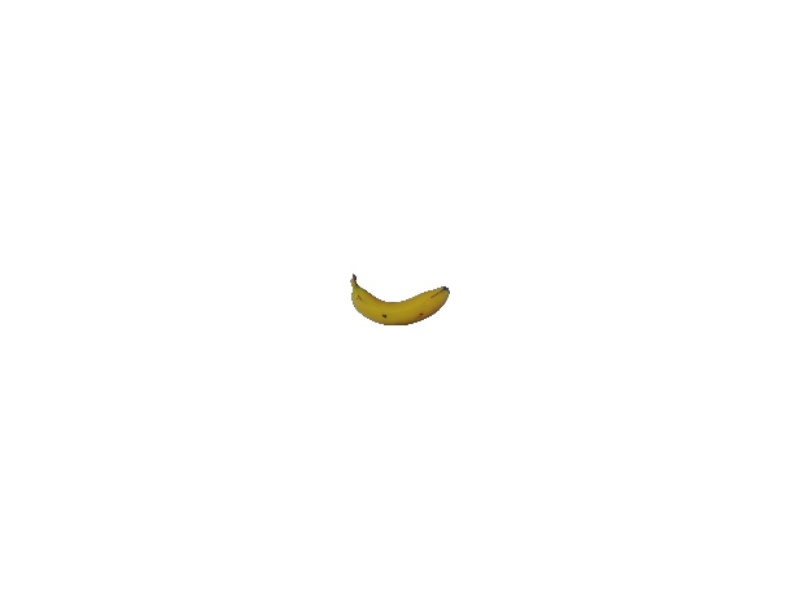banana: (346, 273, 458, 328)
